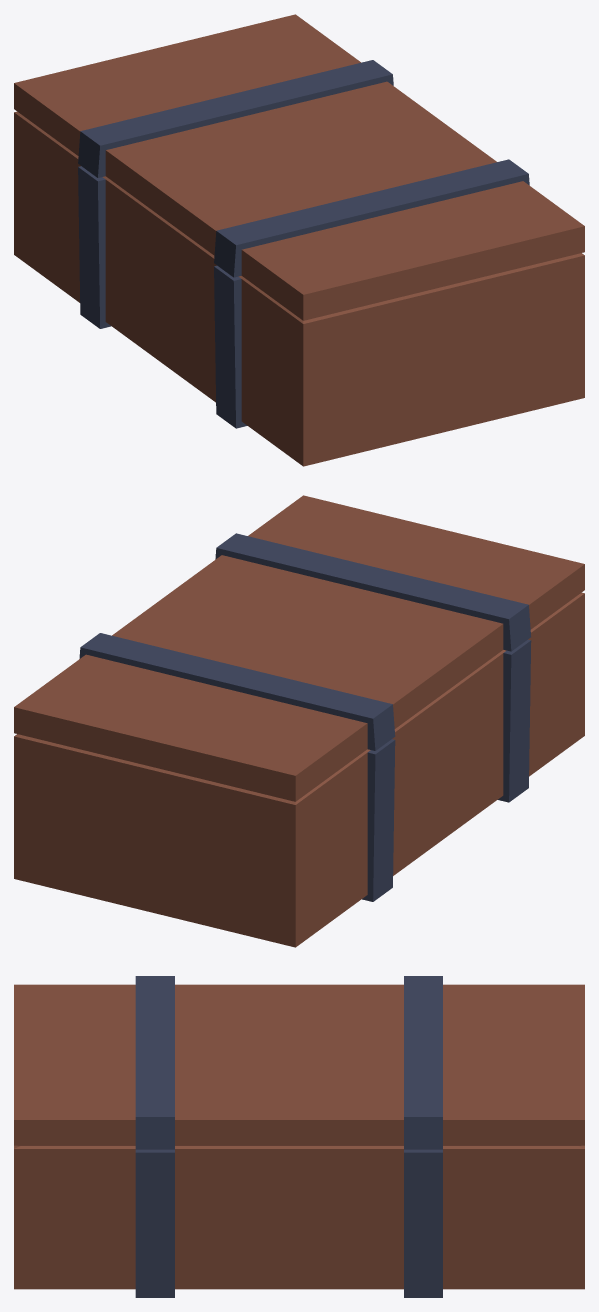
3 renders of one model, top to bottom at view 1: azimuth 30°, elevation 25°; view 2: azimuth 150°, elevation 25°; view 3: azimuth 270°, elevation 25°, orthographic.
Visible parts, largest first — view 1: Cube.003; view 2: Cube.003; view 3: Cube.003.
Part boxes in pixels (x1,y1,x2,y2): Cube.003: [14, 14, 584, 466]; Cube.003: [14, 495, 584, 947]; Cube.003: [14, 976, 584, 1297].
Bounding box in the file's own units: 34.46 × 20.31 × 58.08.
